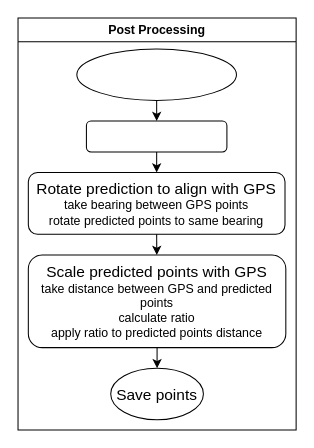
Some shapes in this 314 by 448 pixel diagram are drawn without their labels. Here are the shapes that lost their labels. From the top down, the box of each, then its label:
(76, 48, 236, 100): Load predicted points
(85, 120, 227, 152): Load GPS points
